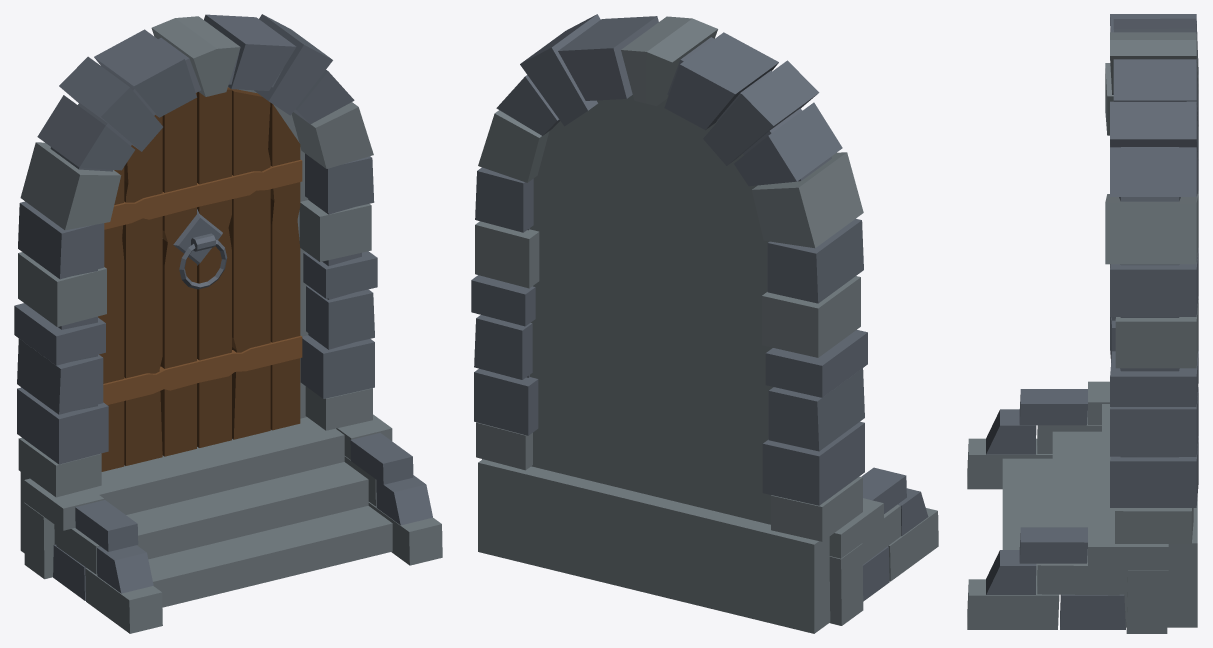
File: Door Round.glb
The picture shows the model from 3 angles, left to right: view 1: azimuth 30°, elevation 25°; view 2: azimuth 150°, elevation 25°; view 3: azimuth 270°, elevation 25°; orthographic projection. The views are drawn at different scales.
Parts seen in each view (by area): view 1: Door_Round; view 2: Door_Round; view 3: Door_Round.
Part boxes in pixels (left/top/right/bottom): Door_Round: left=14, top=14, right=442, bottom=633; Door_Round: left=471, top=14, right=938, bottom=633; Door_Round: left=967, top=14, right=1198, bottom=633.
Size of the model in its own units: 0.5014 by 0.7226 by 0.2964.
